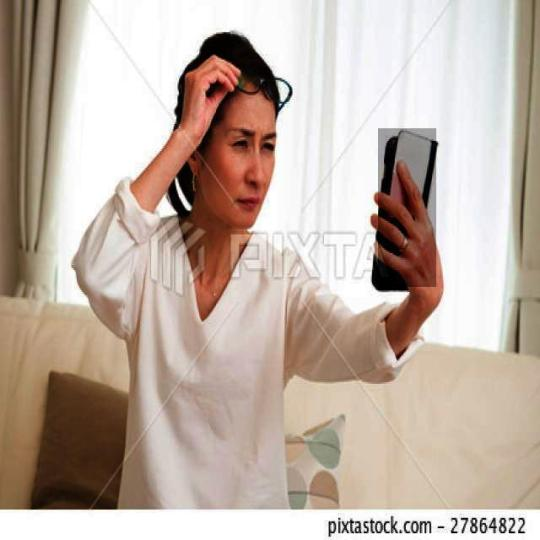phone: (373, 129, 441, 289)
